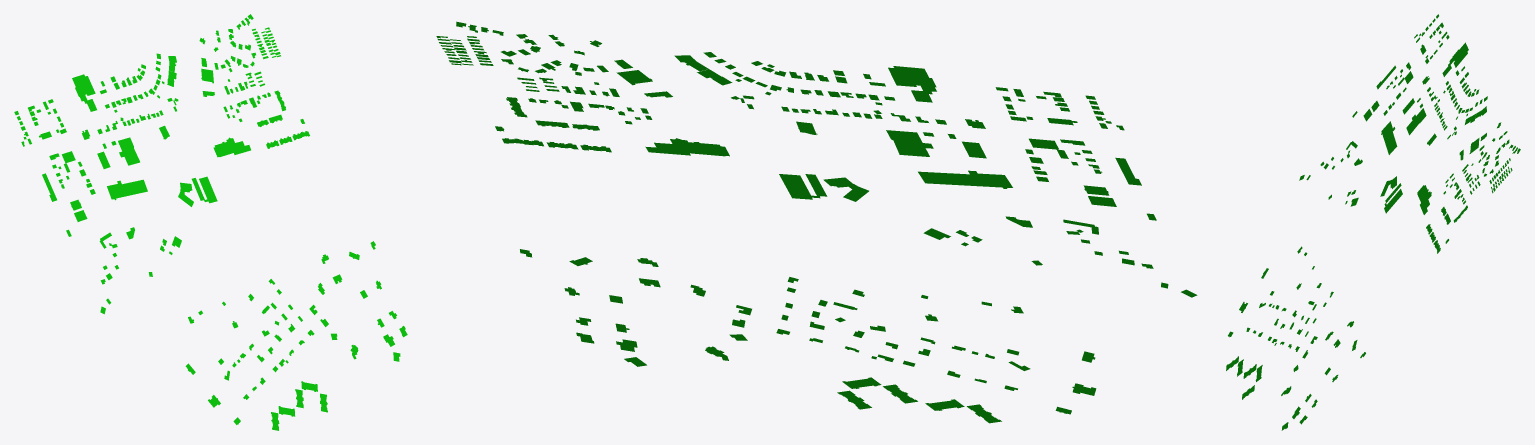
The picture shows the model from 3 angles, left to right: view 1: azimuth 30°, elevation 25°; view 2: azimuth 150°, elevation 25°; view 3: azimuth 270°, elevation 25°; orthographic projection. The views are drawn at different scales.
Visible parts, largest first — view 1: mesh; view 2: mesh; view 3: mesh.
Boxes of the visible parts, x1=… form: mesh: x1=14, y1=14, x2=407, y2=430; mesh: x1=436, y1=21, x2=1197, y2=423; mesh: x1=1226, y1=14, x2=1520, y2=430.
Bounding box in the file's own units: 1032 × 863 × 802.
